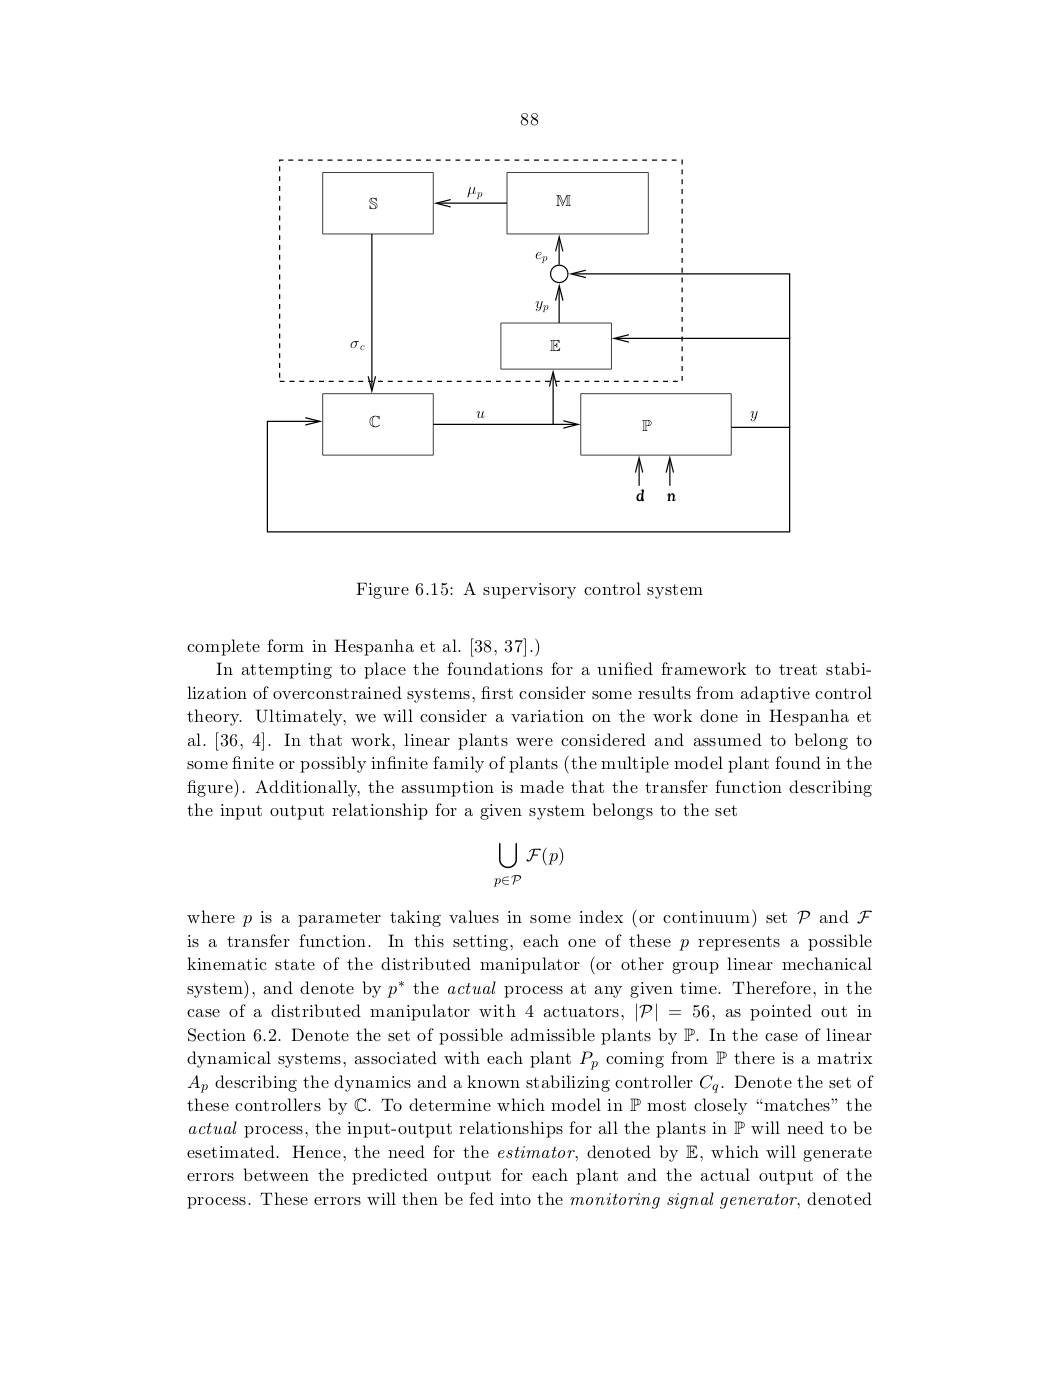figure: (266, 158, 790, 533)
formula: (493, 843, 563, 886)
